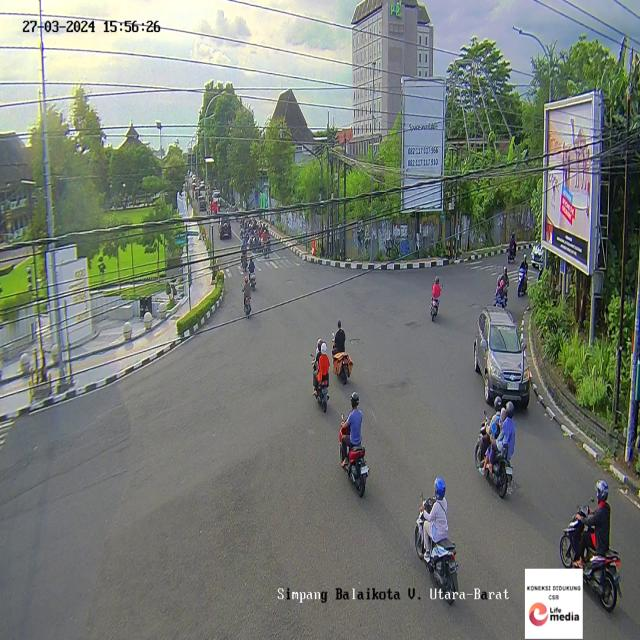car: (472, 310, 528, 410), (218, 213, 233, 240)
motorcycle: (561, 475, 623, 613), (414, 482, 460, 596), (473, 394, 519, 500), (338, 393, 371, 499), (311, 339, 332, 417), (333, 317, 353, 378), (431, 276, 443, 324), (507, 230, 519, 272), (240, 276, 252, 318), (518, 253, 529, 293), (248, 257, 257, 289), (240, 237, 248, 273), (262, 230, 269, 261)
